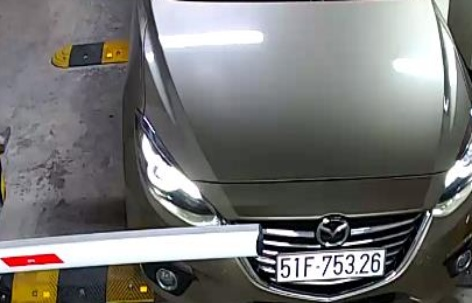plate: (275, 249, 385, 278)
